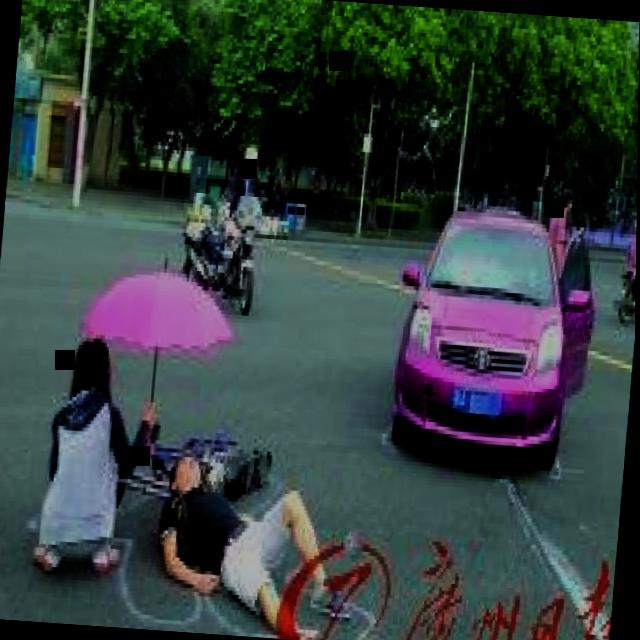Fall-Detected: (133, 412, 357, 638)
